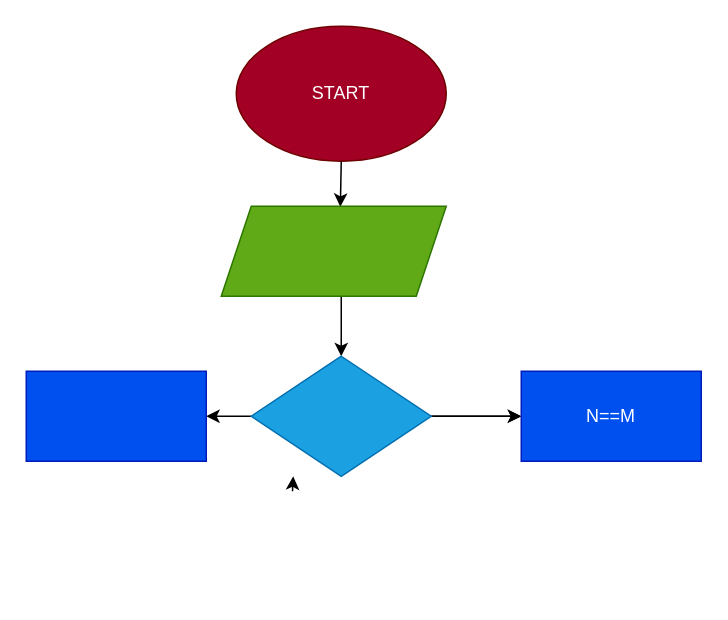
This 728x620 diagram has some shape labels left out. Each missing label, with the centre of its shape:
"INPUT N" goes at point 333,250.
"N=!M" goes at point 115,415.
